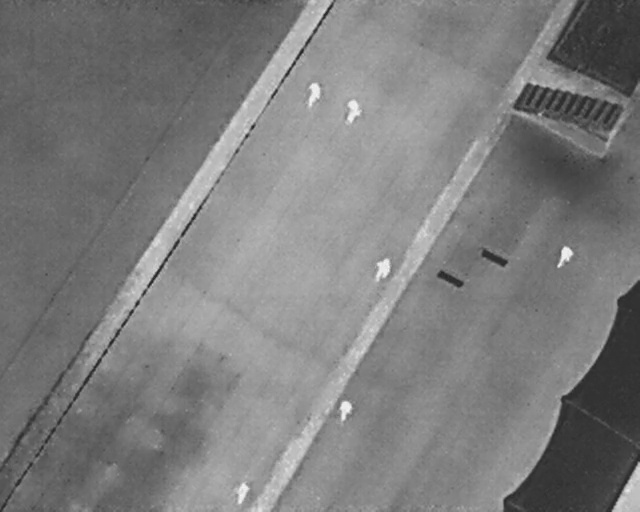Person: (554, 240, 578, 274), (370, 253, 395, 285), (344, 98, 362, 127), (306, 81, 321, 107), (339, 397, 353, 423), (237, 482, 250, 505)
